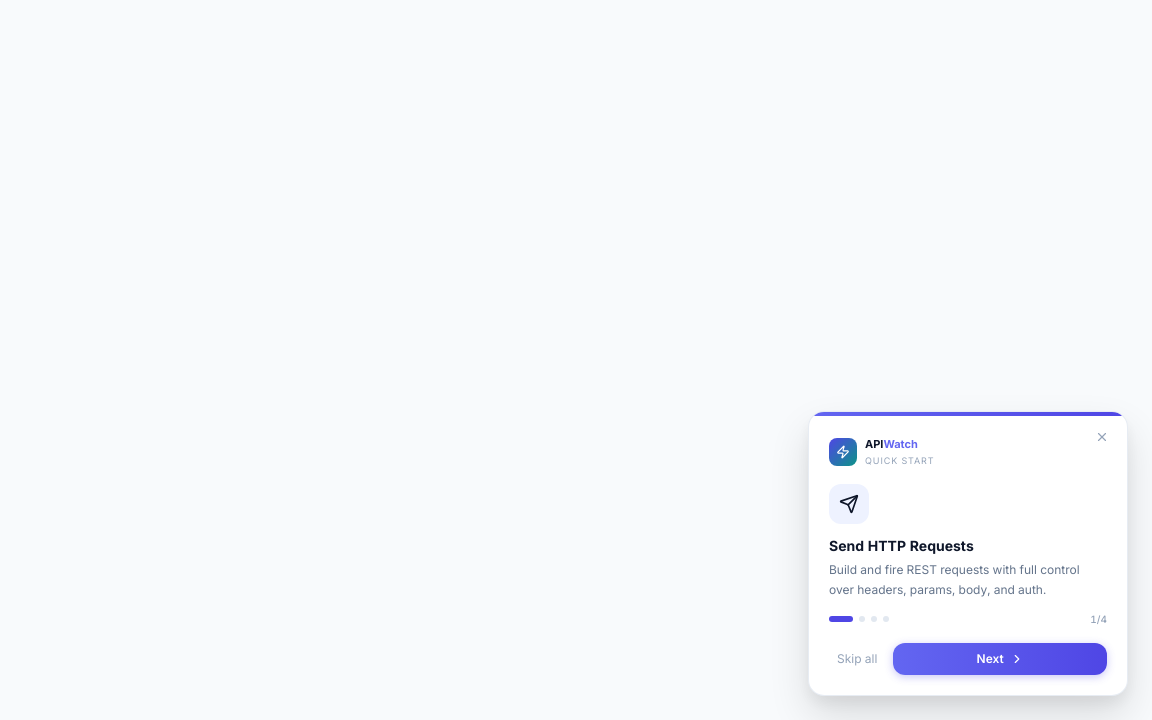
Test: OnboardingModal › advances steps on Next click
Expected: the heading "Send HTTP Requests" is shown, [829,537,974,554]
Click Next (button contains 'Next' text + icon)
Click the button "Next".
click(1000, 659)  # box [893,643,1107,675]
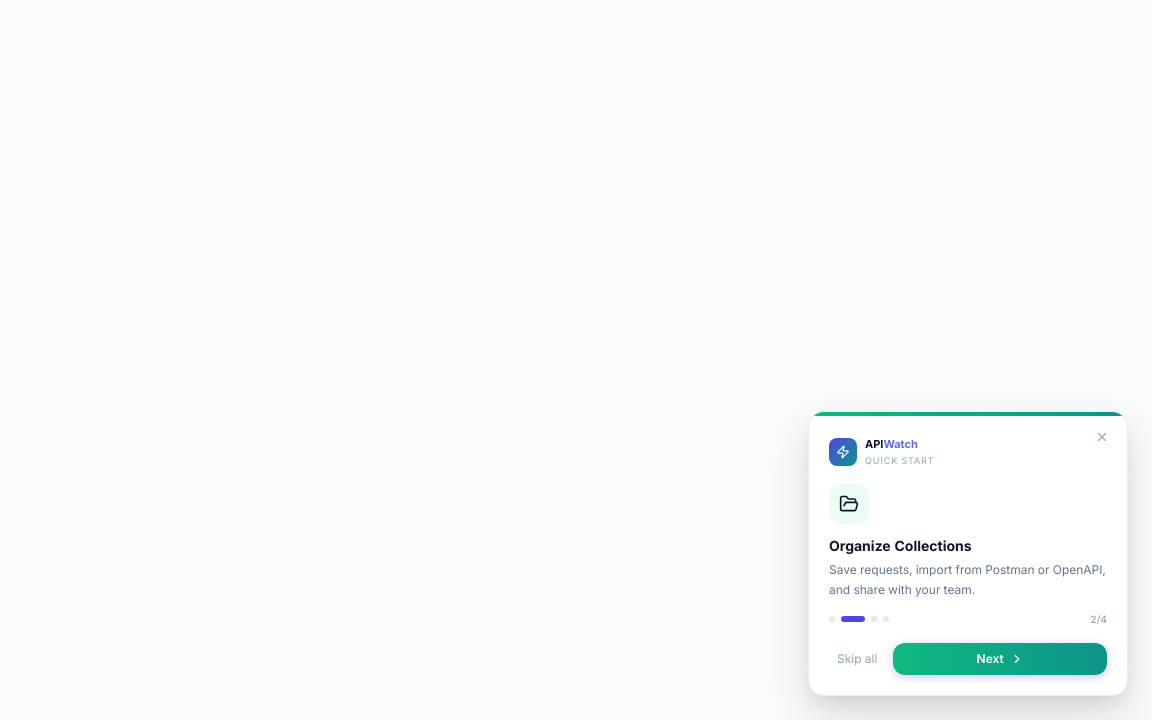
Expected: the heading "Organize Collections" is shown, [829,537,972,554]
